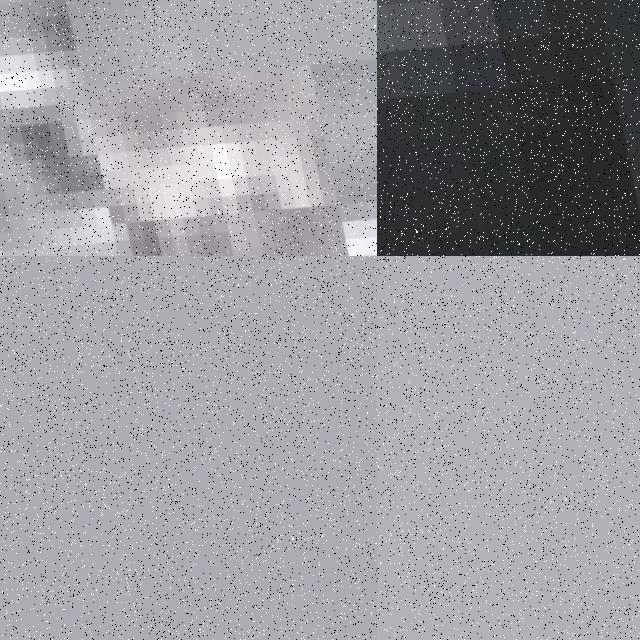0: (0, 0, 377, 256)
drone: (377, 0, 640, 256)
